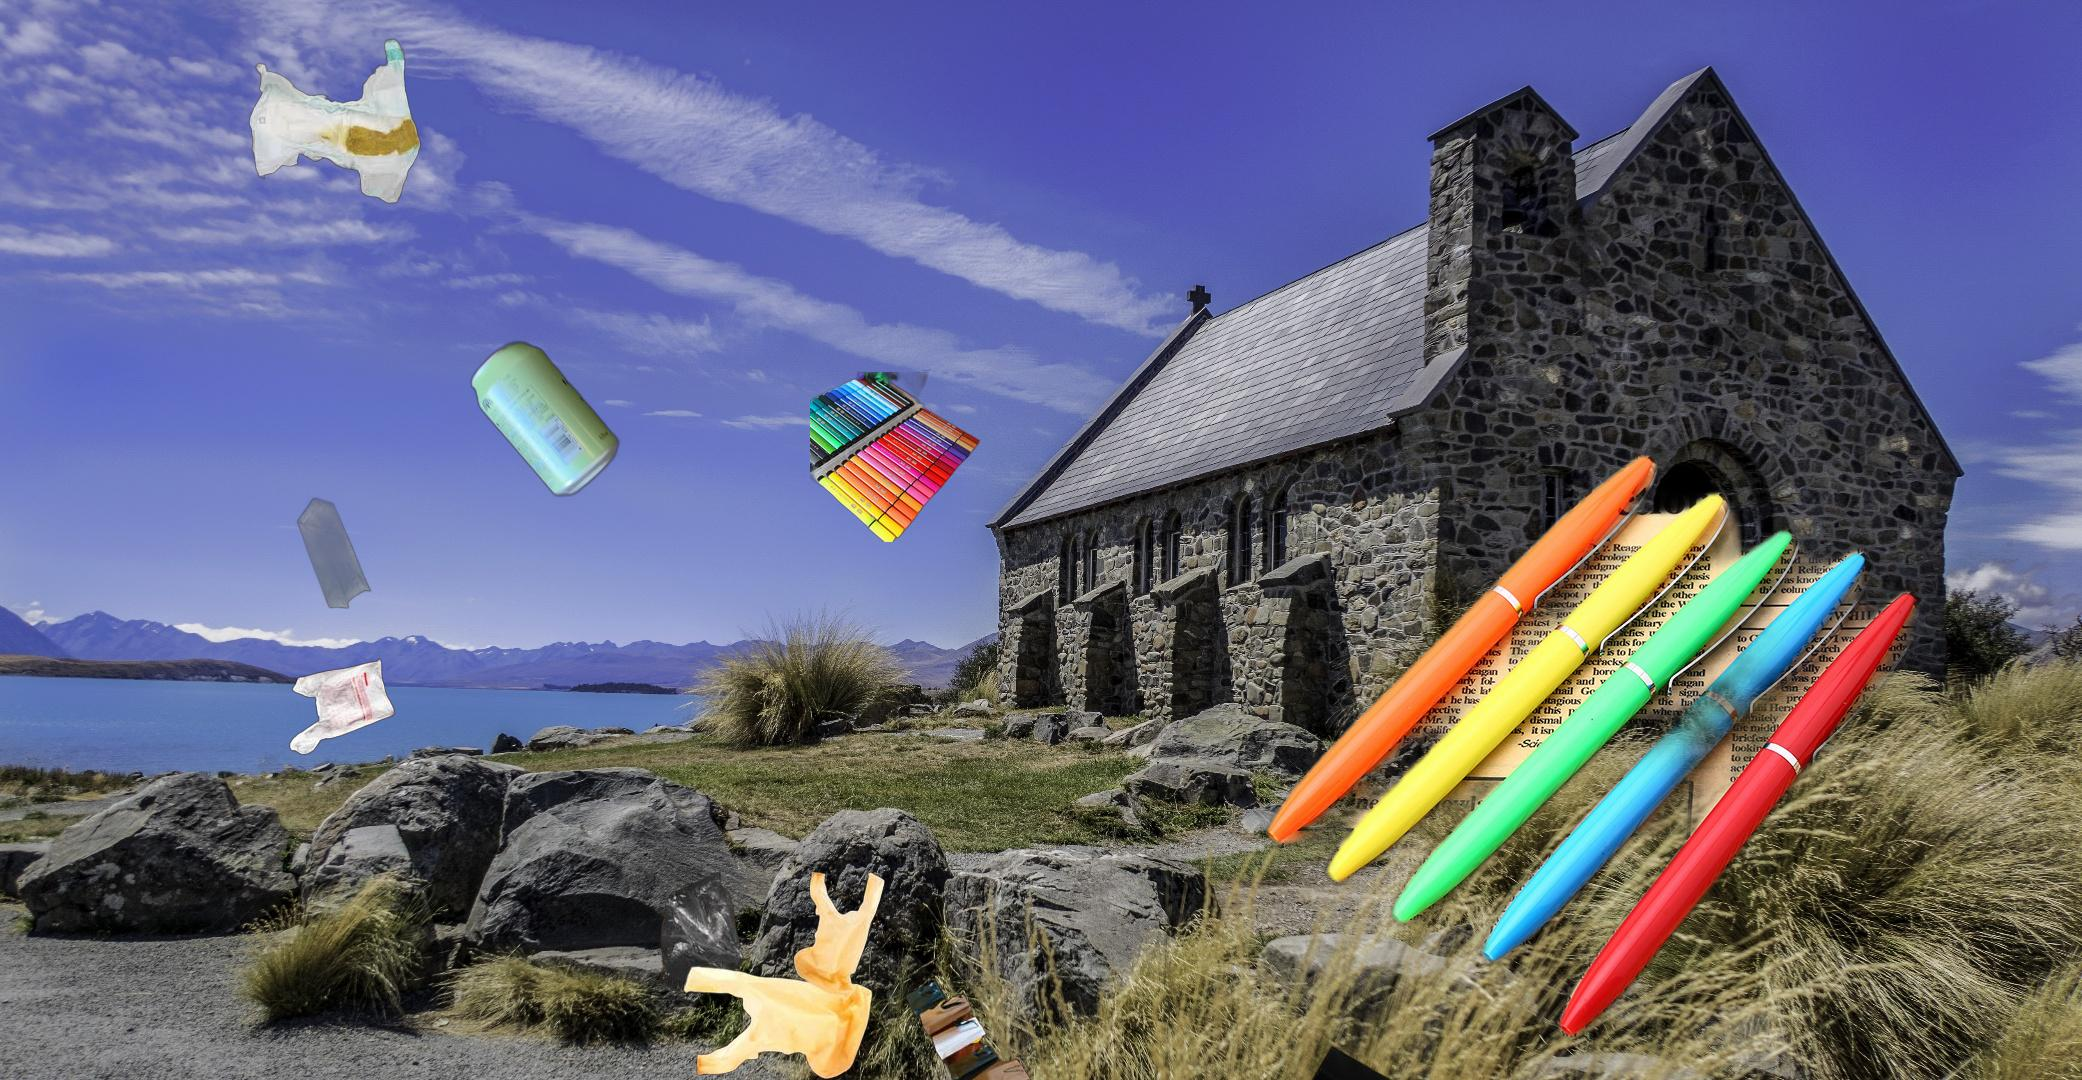metal-cans: (465, 336, 624, 501)
paper-bag: (885, 978, 1047, 1080), (1274, 1044, 1466, 1080)
penholder: (1259, 446, 1932, 1065), (810, 372, 980, 541)
plastic-bag: (654, 868, 885, 1080), (286, 495, 398, 758)
trash: (246, 36, 423, 207)
